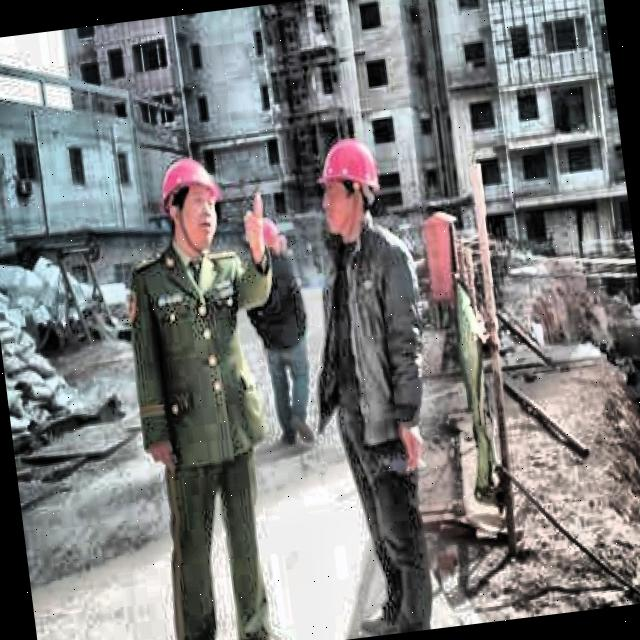helmet: (143, 142, 237, 262), (306, 122, 392, 249)
